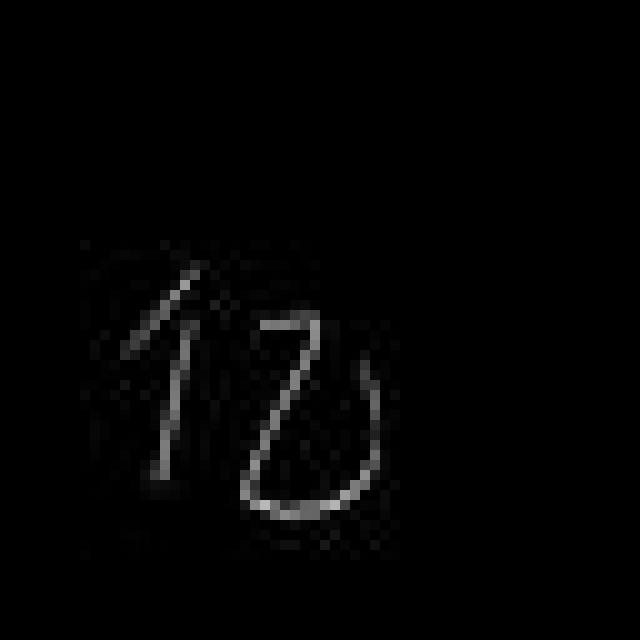100000 -a hundred thousand-: (112, 249, 394, 538)
